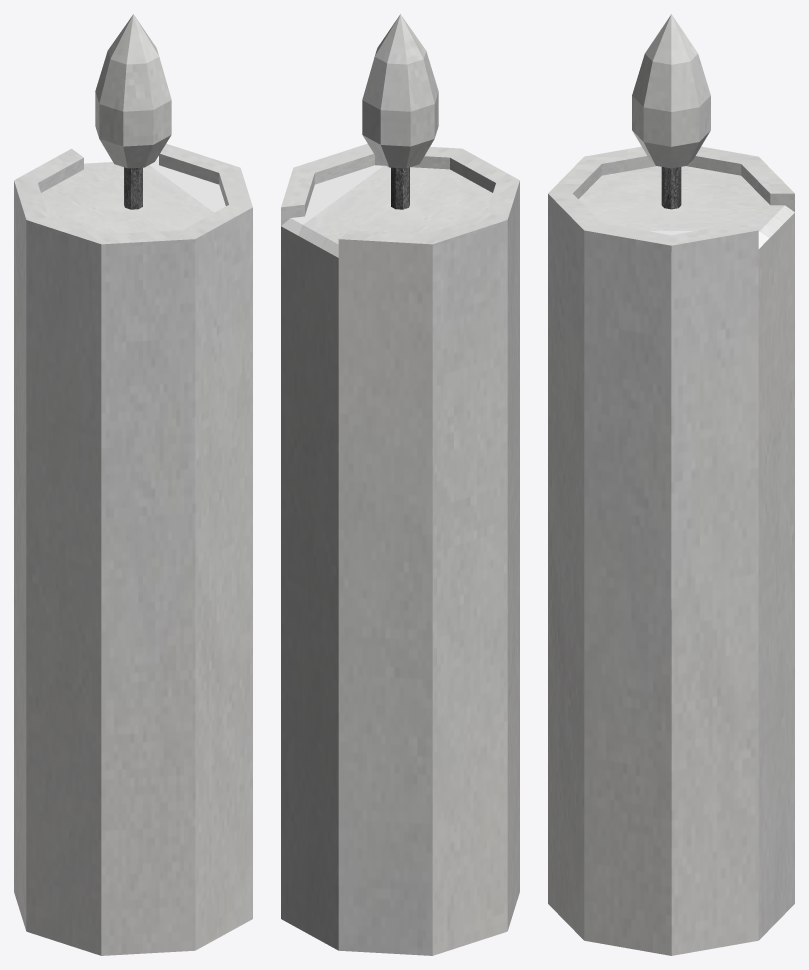
The model's file is Velas_grandes.fbx.
The picture shows the model from 3 angles, left to right: view 1: azimuth 30°, elevation 25°; view 2: azimuth 150°, elevation 25°; view 3: azimuth 270°, elevation 25°; orthographic projection.
Parts seen in each view (by area): view 1: Vela_grande; view 2: Vela_grande; view 3: Vela_grande.
Part boxes in pixels (box(x1,y1,x2,y2)): Vela_grande: box(14, 14, 252, 955); Vela_grande: box(281, 14, 519, 955); Vela_grande: box(548, 14, 794, 955).
Size of the model in its own units: 2 by 7.95 by 2.
1 material, 1 textured.
